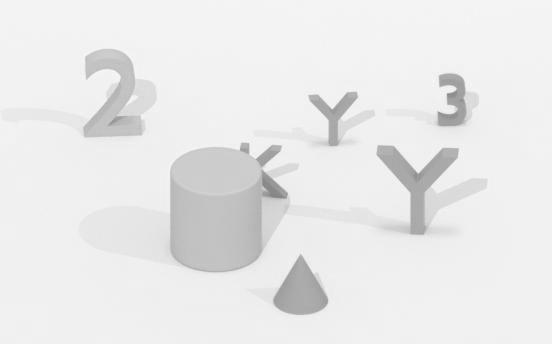chu_khoi: (377, 145, 458, 233), (309, 92, 357, 145), (262, 170, 287, 197)
non: (273, 255, 328, 314)
so_khoi: (83, 49, 143, 136), (438, 73, 466, 125)
tru: (170, 147, 262, 271)
